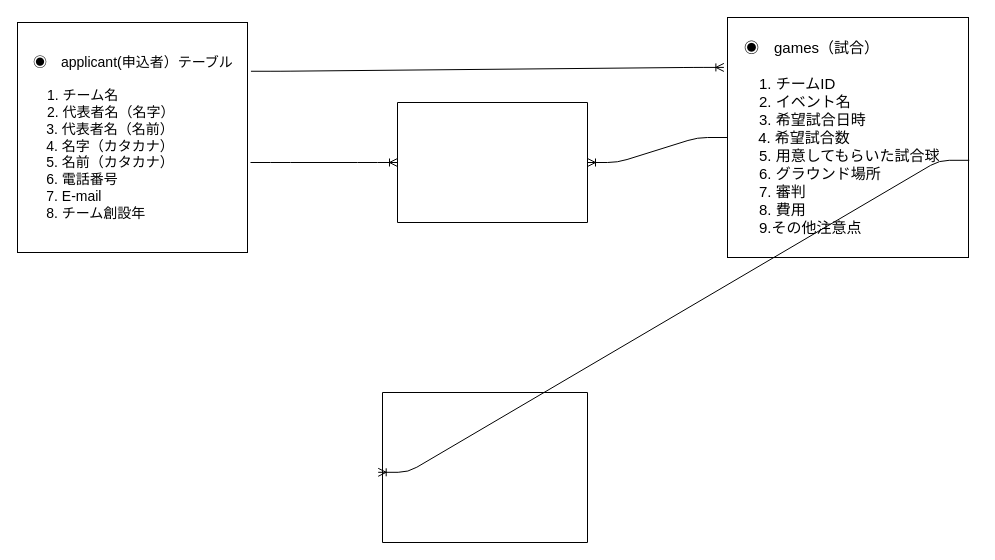
The diagram is 995 pixels wide and 560 high, and some of its shapes have lost their labels. The centre of each missing label's shape, as x and y in pixels:
"◉アドレス 1. 試合ID 2. 郵便番号 3. 都道府県 4. 市区町村 5. 建物名" belongs at (x=485, y=467).
"◉試合コメント 1. ユーザーID 2. 試合ID 3. 試合コメント" belongs at (x=492, y=162).
